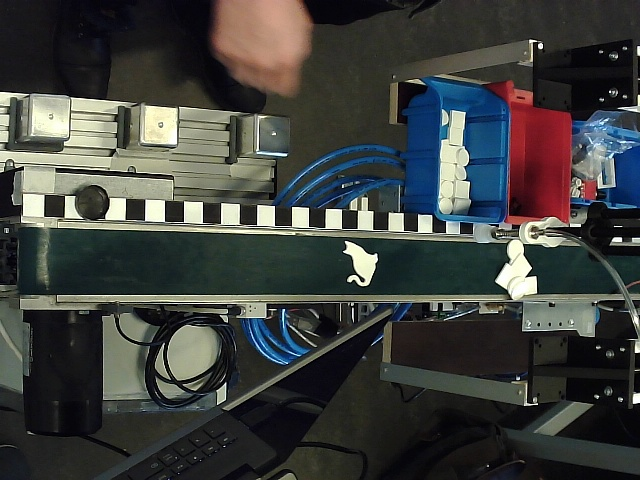cat: (342, 241, 378, 288)
